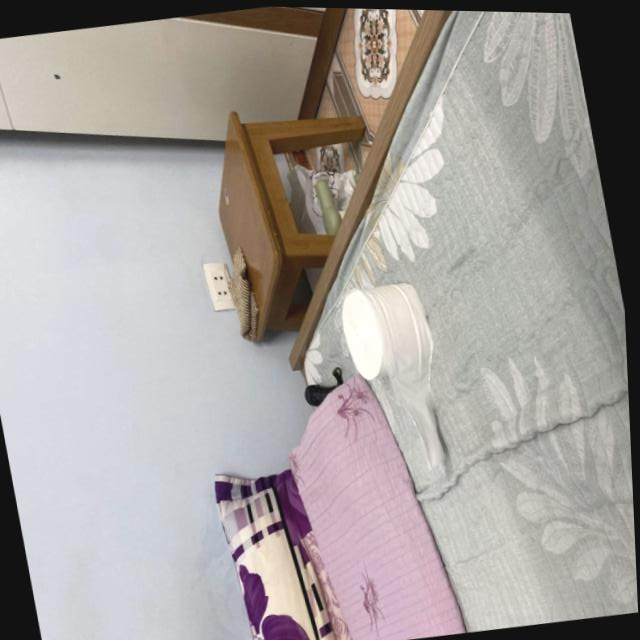outlet: (202, 260, 237, 314)
